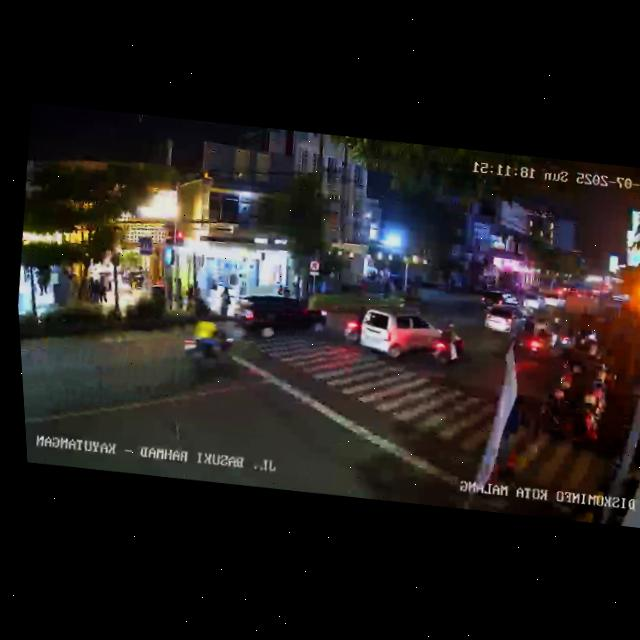car: (352, 303, 454, 370), (232, 291, 327, 346), (481, 299, 537, 340)
motorcycle: (178, 313, 248, 381), (429, 320, 468, 372)
person: (218, 285, 234, 319), (96, 272, 112, 306), (85, 272, 101, 303)
